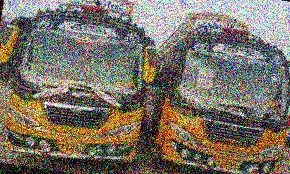bus: (0, 0, 163, 173), (141, 9, 290, 174)
